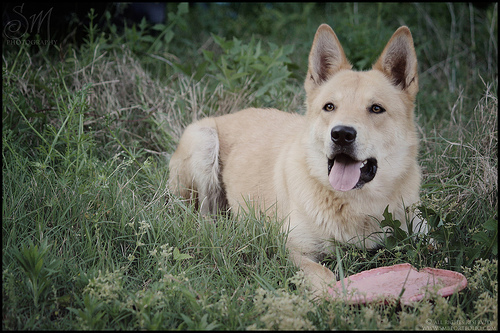dog: (166, 19, 431, 297)
